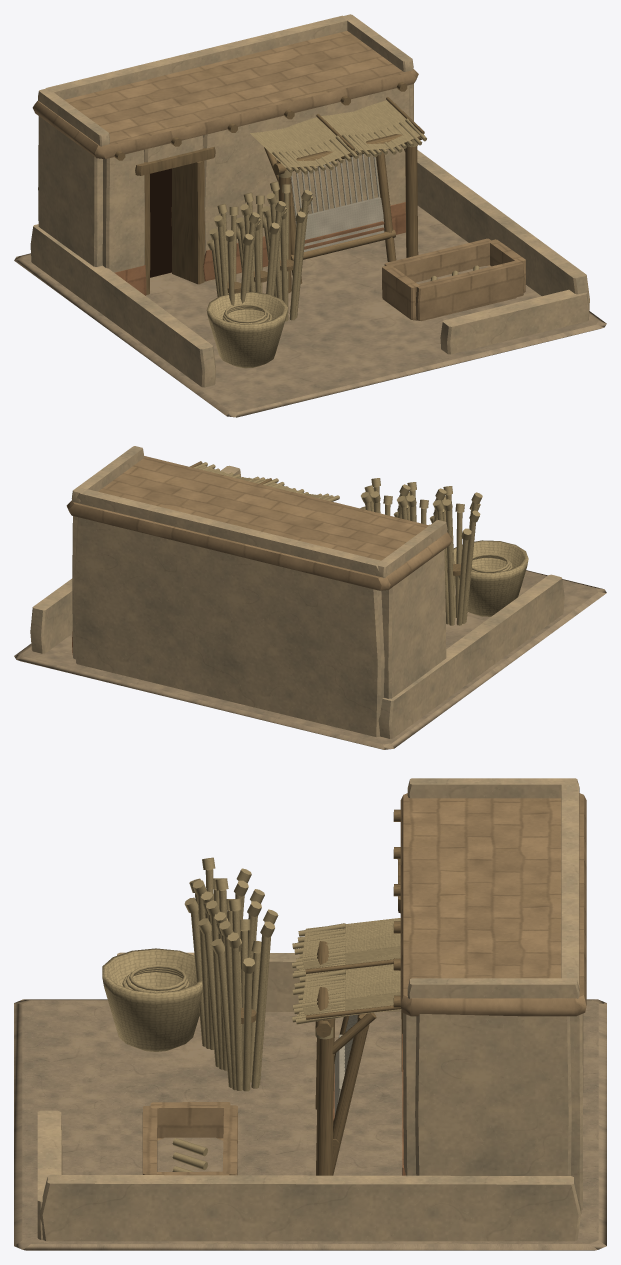
The model's file is linenYard.glb.
3 renders of one model, top to bottom at view 1: azimuth 30°, elevation 25°; view 2: azimuth 150°, elevation 25°; view 3: azimuth 270°, elevation 25°, orthographic. The views are drawn at different scales.
Visible parts, largest first — view 1: original-linenYard-warm-clay-plaster, original-linenYard-alluvial-earth, original-linenYard-game-raw-brick-facing, original-linenYard-reed-mat, original-linenYard-worn-timber, original-linenYard-woven-linen, original-linenYard-game-door-shadow, original-linenYard-game-fired-brick-facing; view 2: original-linenYard-warm-clay-plaster, original-linenYard-game-raw-brick-facing, original-linenYard-reed-mat, original-linenYard-alluvial-earth; view 3: original-linenYard-warm-clay-plaster, original-linenYard-alluvial-earth, original-linenYard-game-raw-brick-facing, original-linenYard-reed-mat, original-linenYard-worn-timber, original-linenYard-woven-linen.
Part boxes in pixels (box(x1,y1,x2,y2)): original-linenYard-warm-clay-plaster: box(30, 14, 589, 387); original-linenYard-alluvial-earth: box(14, 206, 606, 417); original-linenYard-game-raw-brick-facing: box(32, 31, 525, 320); original-linenYard-reed-mat: box(206, 100, 479, 368); original-linenYard-worn-timber: box(114, 82, 424, 294); original-linenYard-woven-linen: box(291, 154, 384, 251); original-linenYard-game-door-shadow: box(150, 168, 171, 277); original-linenYard-game-fired-brick-facing: box(114, 202, 405, 295); original-linenYard-warm-clay-plaster: box(30, 446, 564, 738); original-linenYard-game-raw-brick-facing: box(66, 456, 452, 590); original-linenYard-reed-mat: box(193, 462, 528, 625); original-linenYard-alluvial-earth: box(14, 570, 606, 749); original-linenYard-warm-clay-plaster: box(37, 778, 583, 1241); original-linenYard-alluvial-earth: box(14, 999, 606, 1250); original-linenYard-game-raw-brick-facing: box(142, 793, 586, 1175); original-linenYard-reed-mat: box(102, 857, 401, 1171); original-linenYard-worn-timber: box(241, 809, 402, 1175); original-linenYard-woven-linen: box(334, 1014, 357, 1116).
Size of the model in its own units: 5.37 by 2.35 by 5.37.
8 materials, 7 textured.
